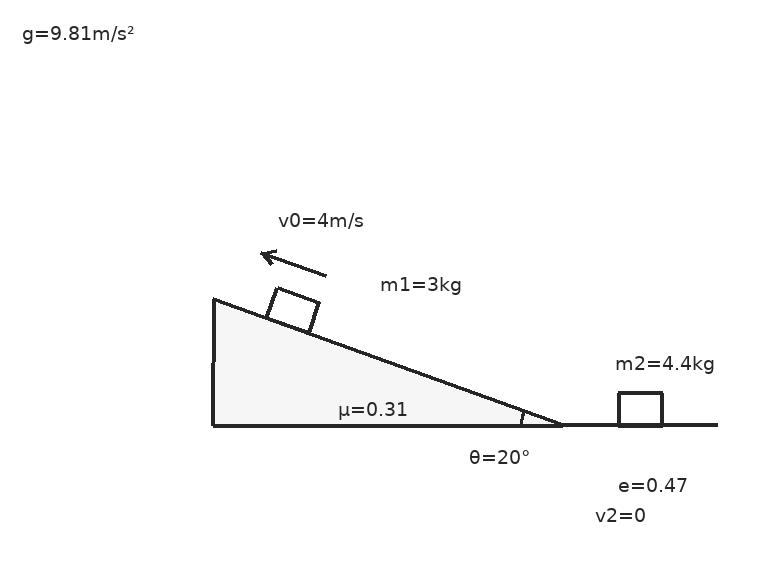block: (264, 285, 320, 335), (616, 391, 664, 427)
ramp: (211, 296, 563, 427)
